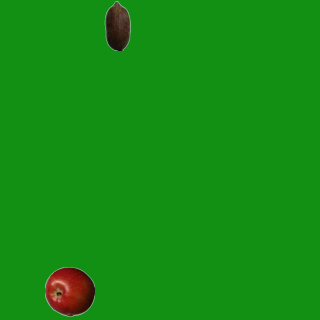Apple Braeburn: (44, 266, 94, 316)
Nut Pecan: (92, 0, 142, 50)
